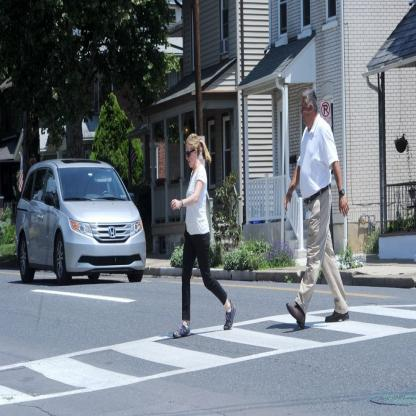Crosswalk: (0, 336, 401, 416)
